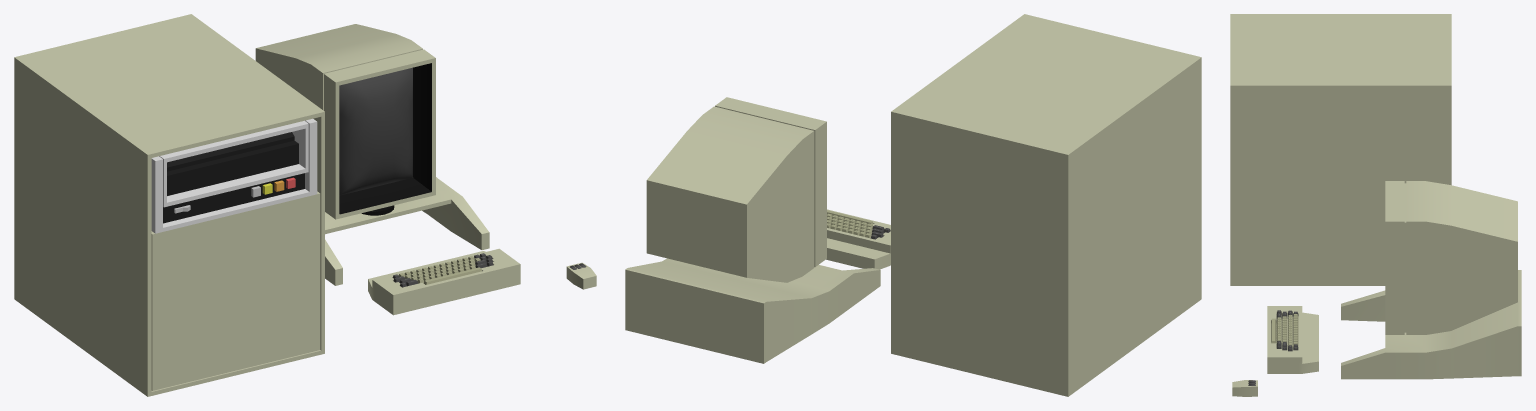
File: alto.glb
The picture shows the model from 3 angles, left to right: view 1: azimuth 30°, elevation 25°; view 2: azimuth 150°, elevation 25°; view 3: azimuth 270°, elevation 25°; orthographic projection. The views are drawn at different scales.
Visible parts, largest first — view 1: AltoCpu, AltoMonitor, AltoMonitorScreen, AltoKeyboard, AltoKeyboardKeys, AltoMouse; view 2: AltoCpu, AltoMonitor, AltoKeyboard, AltoKeyboardKeys; view 3: AltoCpu, AltoMonitor, AltoKeyboard, AltoKeyboardKeys, AltoMouse.
Part boxes in pixels (bbox=[...]): AltoCpu: bbox=[14, 14, 324, 396]; AltoMonitor: bbox=[255, 24, 489, 285]; AltoMonitorScreen: bbox=[339, 67, 412, 195]; AltoKeyboard: bbox=[368, 248, 520, 315]; AltoKeyboardKeys: bbox=[392, 253, 493, 287]; AltoMouse: bbox=[566, 262, 596, 289]; AltoCpu: bbox=[891, 14, 1201, 396]; AltoMonitor: bbox=[625, 97, 880, 363]; AltoKeyboard: bbox=[826, 209, 890, 269]; AltoKeyboardKeys: bbox=[827, 210, 890, 239]; AltoCpu: bbox=[1230, 14, 1451, 285]; AltoMonitor: bbox=[1341, 181, 1521, 379]; AltoKeyboard: bbox=[1267, 306, 1318, 373]; AltoKeyboardKeys: bbox=[1271, 310, 1298, 351]; AltoMouse: bbox=[1232, 380, 1257, 396].
Size of the model in its own units: 1.17 by 0.6 by 0.79.
Materials: 3 (2 with a texture image).
